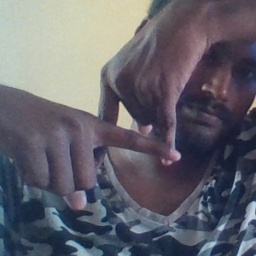H: (75, 67, 190, 177)
